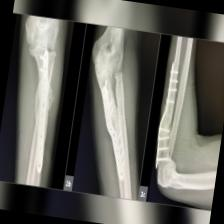fracture-dislocation: (0, 11, 224, 213)
